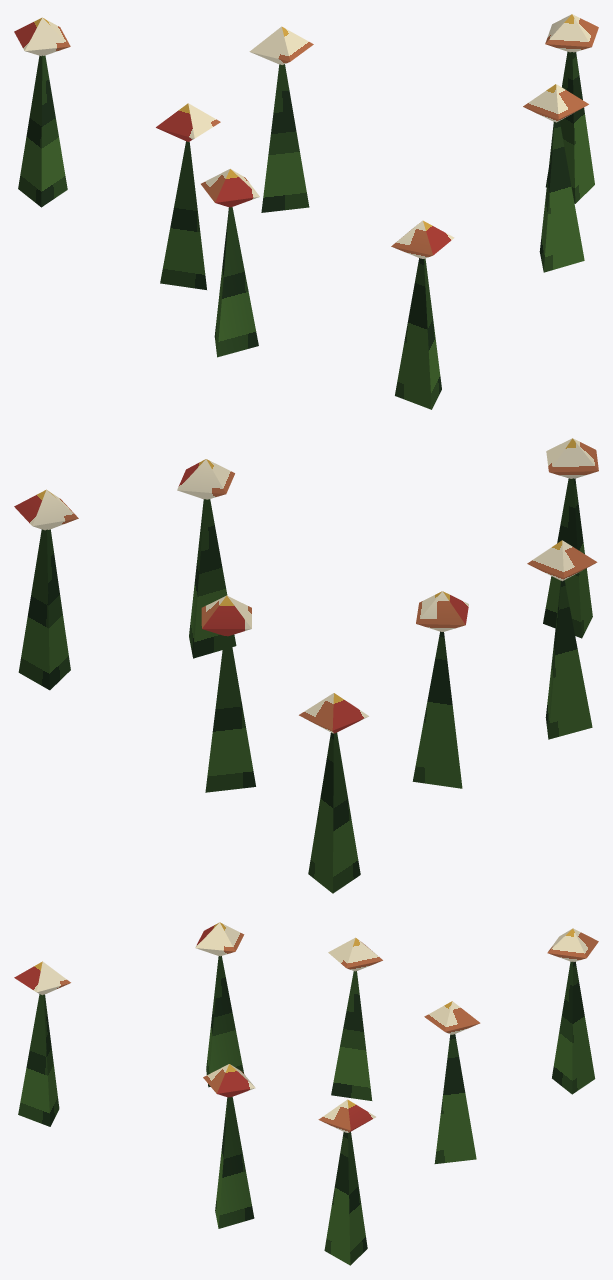
Rendered from mnat.flowers.glb.
The picture shows the model from 3 angles, top to bottom: view 1: azimuth 30°, elevation 25°; view 2: azimuth 150°, elevation 25°; view 3: azimuth 270°, elevation 25°; orthographic projection. The views are drawn at different scales.
Parts seen in each view (by area): view 1: kit_plants, kit_heads; view 2: kit_plants, kit_heads; view 3: kit_plants, kit_heads.
Boxes of the visible parts, <box> form: kit_plants: <box>18,51,594,409</box>; kit_heads: <box>14,14,598,258</box>; kit_plants: <box>18,478,592,893</box>; kit_heads: <box>14,438,598,733</box>; kit_plants: <box>18,956,595,1265</box>; kit_heads: <box>14,922,598,1132</box>.
Bounding box in the file's own units: 1.13 × 0.41 × 1.4.
2 materials, 2 textured.
